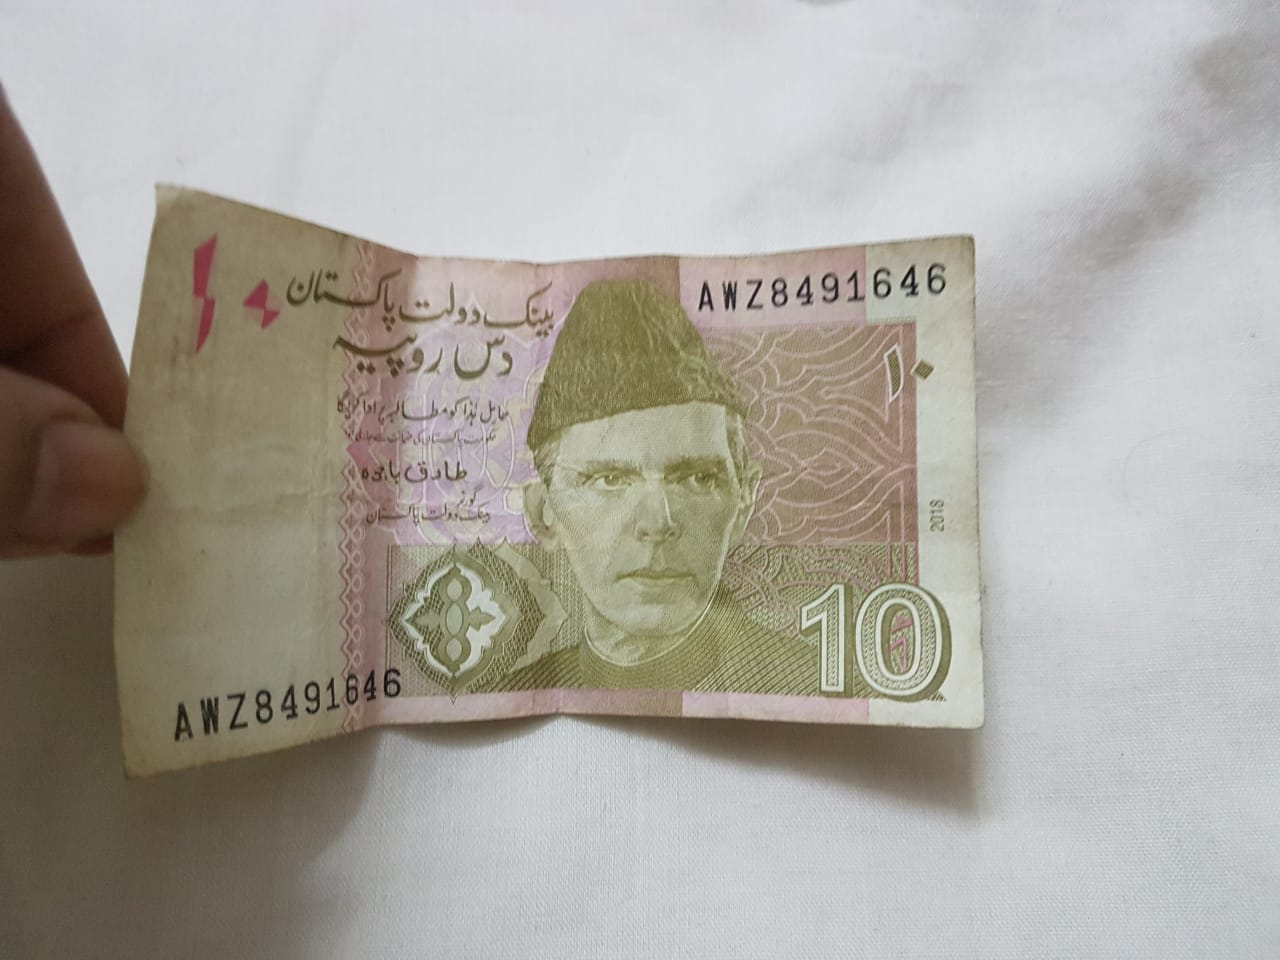10 rupee: (60, 145, 1018, 819)
